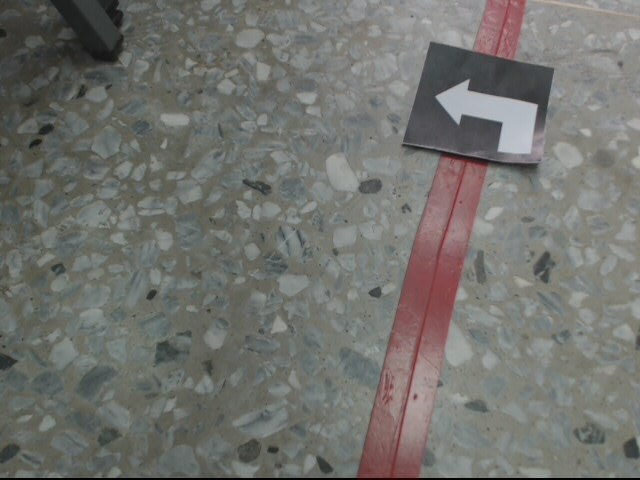left: (402, 42, 556, 170)
